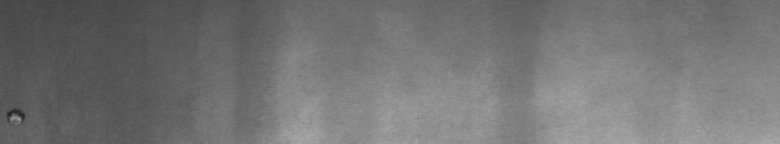fi: (4, 100, 31, 128)
